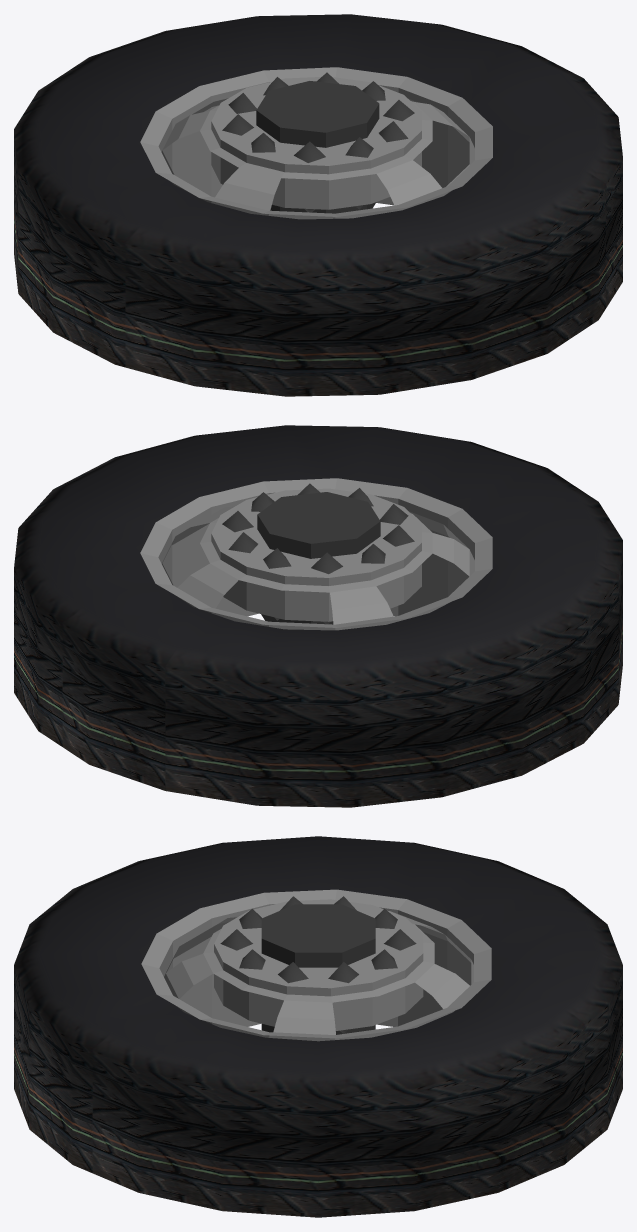
Rendered from tire.obj.
3 renders of one model, top to bottom at view 1: azimuth 30°, elevation 25°; view 2: azimuth 150°, elevation 25°; view 3: azimuth 270°, elevation 25°, orthographic.
Parts seen in each view (by area): view 1: Object02, 1_-_Default, Object01, 2_-_Default; view 2: Object02, 1_-_Default, Object01, 2_-_Default; view 3: Object02, 1_-_Default, Object01, 2_-_Default.
Part boxes in pixels (left/top/right/bottom): Object02: left=14, top=14, right=622, bottom=396; 1_-_Default: left=140, top=67, right=492, bottom=219; Object01: left=256, top=81, right=379, bottom=213; 2_-_Default: left=222, top=72, right=414, bottom=212; Object02: left=14, top=425, right=622, bottom=807; 1_-_Default: left=140, top=478, right=492, bottom=630; Object01: left=257, top=492, right=380, bottom=624; 2_-_Default: left=222, top=483, right=414, bottom=624; Object02: left=14, top=836, right=622, bottom=1217; 1_-_Default: left=141, top=889, right=491, bottom=1041; Object01: left=261, top=904, right=375, bottom=1034; 2_-_Default: left=220, top=896, right=416, bottom=1033.
Bounding box in the file's own units: 1.05 × 0.326 × 1.05.
Materials: 5 (3 with a texture image).
